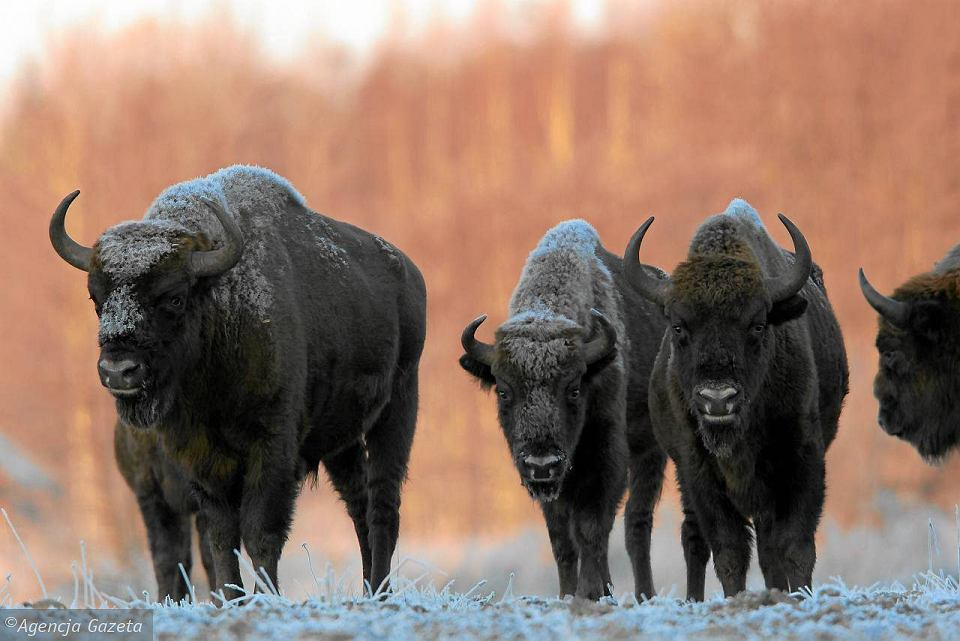zubr: (19, 114, 466, 641), (610, 142, 860, 630), (468, 169, 670, 641), (843, 173, 960, 481)
